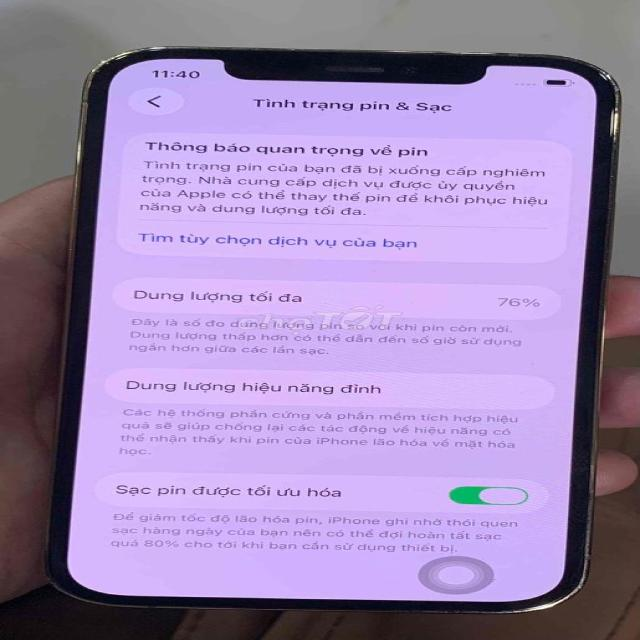gen_12_13: (42, 48, 635, 628)
scratch: (74, 48, 208, 106)
